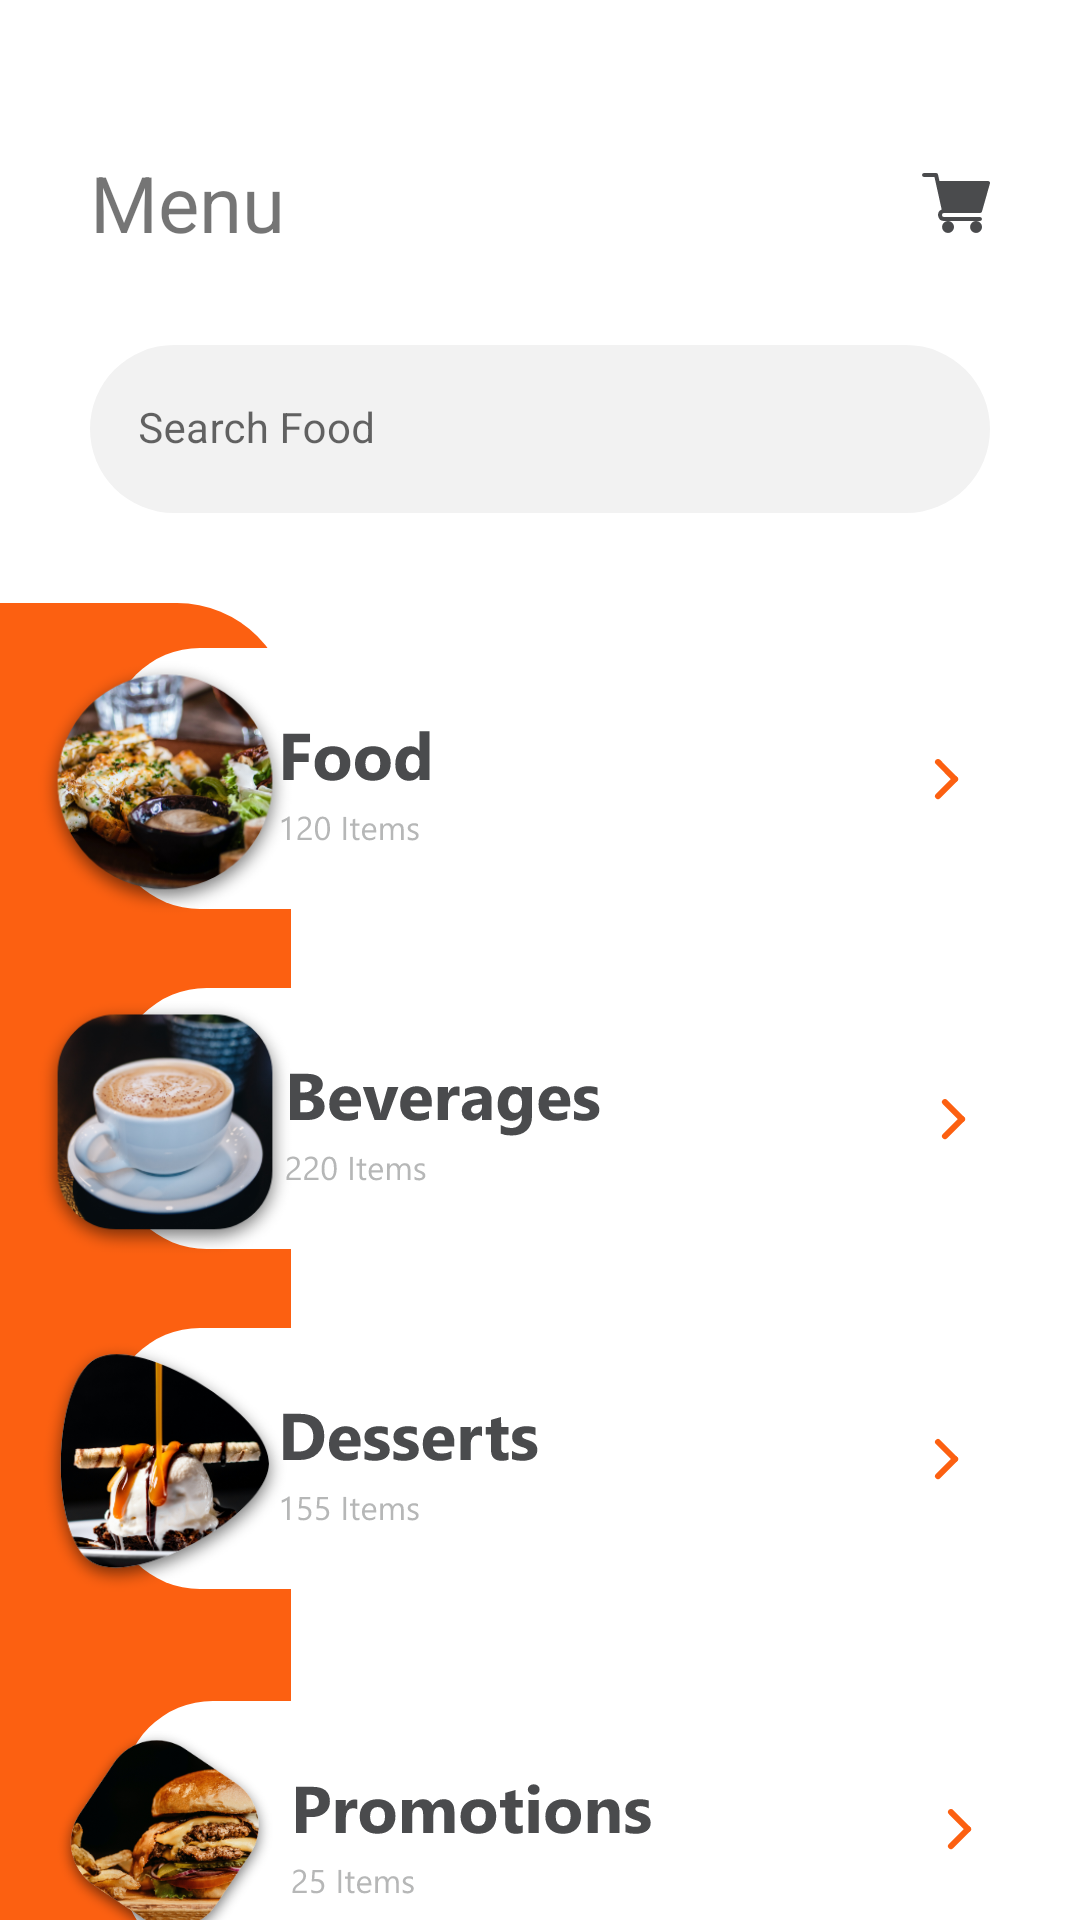

Where to tap for icons on this 1080 × 1920 app screen, as (x=x, y=y):
shopping cart: (x=956, y=203)
